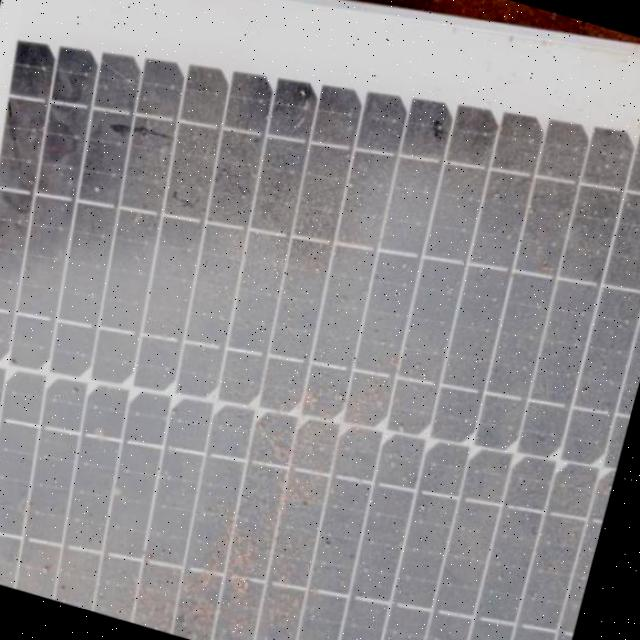Anomaly Solar Panel: (0, 3, 640, 640)
Surface Contaminant: (0, 5, 640, 640)
